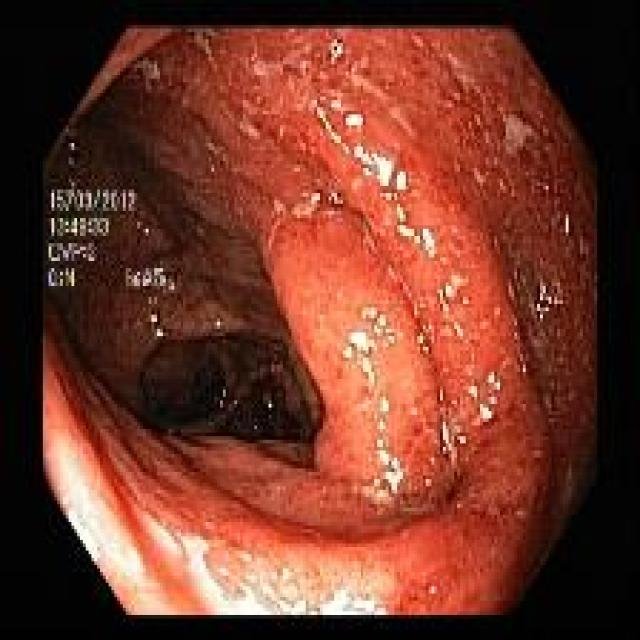ulcerative-colitis: (45, 28, 596, 614)
